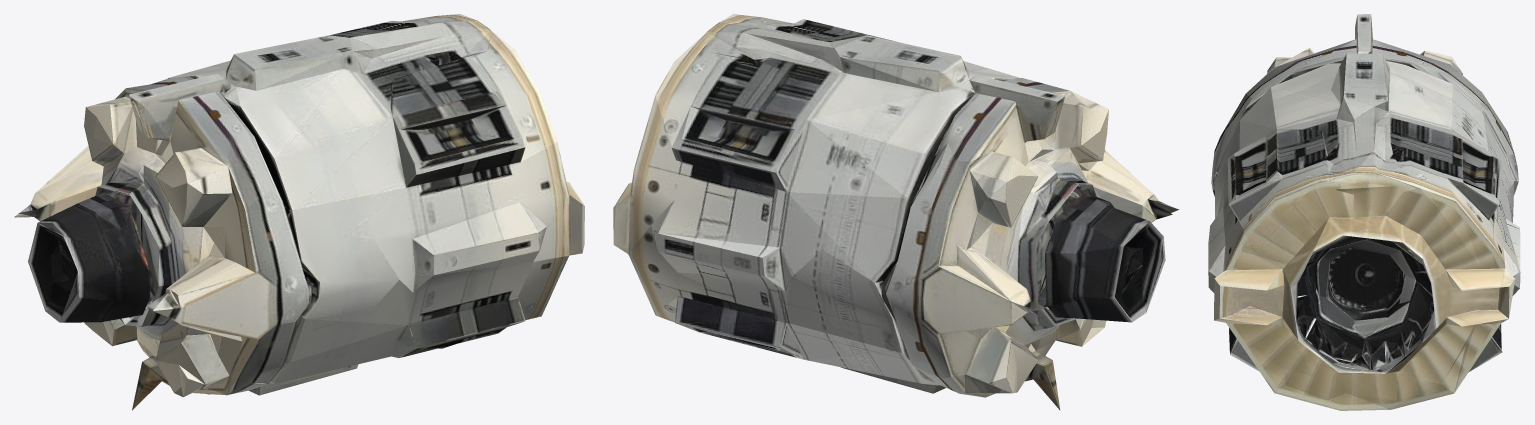
File: module-reactor.glb
3 renders of one model, left to right at view 1: azimuth 30°, elevation 25°; view 2: azimuth 150°, elevation 25°; view 3: azimuth 270°, elevation 25°, orthographic. The views are drawn at different scales.
Size of the model in its own units: 1.9 by 1.29 by 1.3.
Materials: 1 (1 with a texture image).
